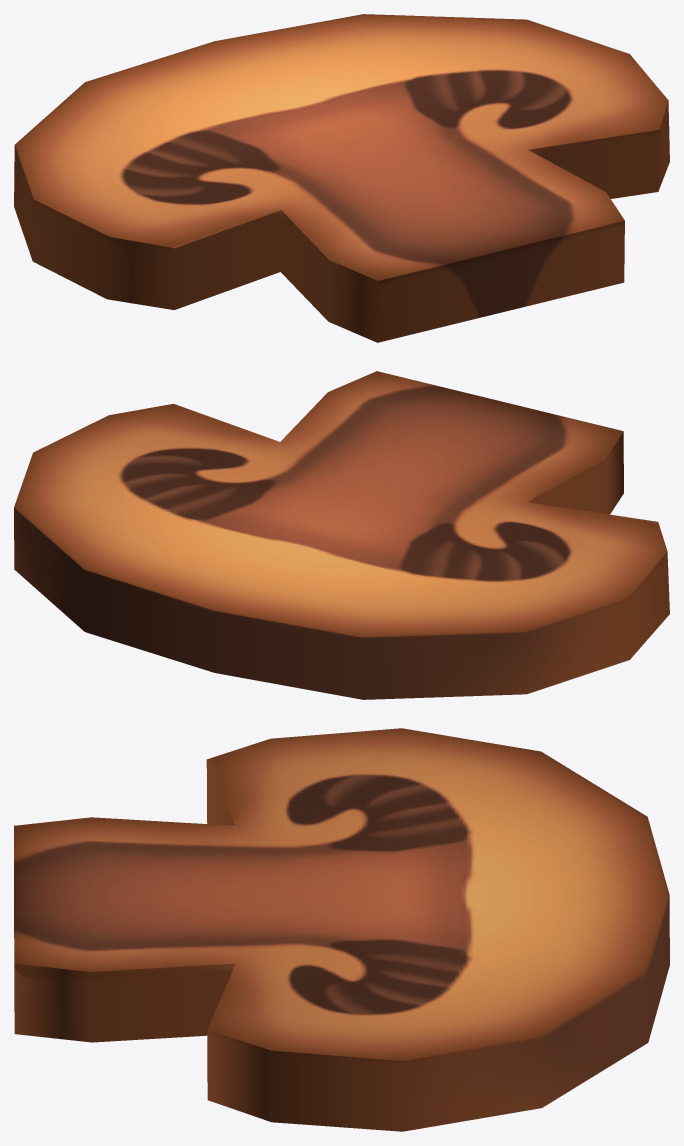
Rendered from Mushroom_02.fbx.
3 renders of one model, top to bottom at view 1: azimuth 30°, elevation 25°; view 2: azimuth 150°, elevation 25°; view 3: azimuth 270°, elevation 25°, orthographic. The views are drawn at different scales.
Parts seen in each view (by area): view 1: Mushroom_02; view 2: Mushroom_02; view 3: Mushroom_02.
Boxes of the visible parts, bbox=[...] form: Mushroom_02: bbox=[14, 14, 669, 342]; Mushroom_02: bbox=[14, 371, 669, 699]; Mushroom_02: bbox=[14, 728, 669, 1131].
Bounding box in the file's own units: 28.98 × 2.87 × 24.1.
